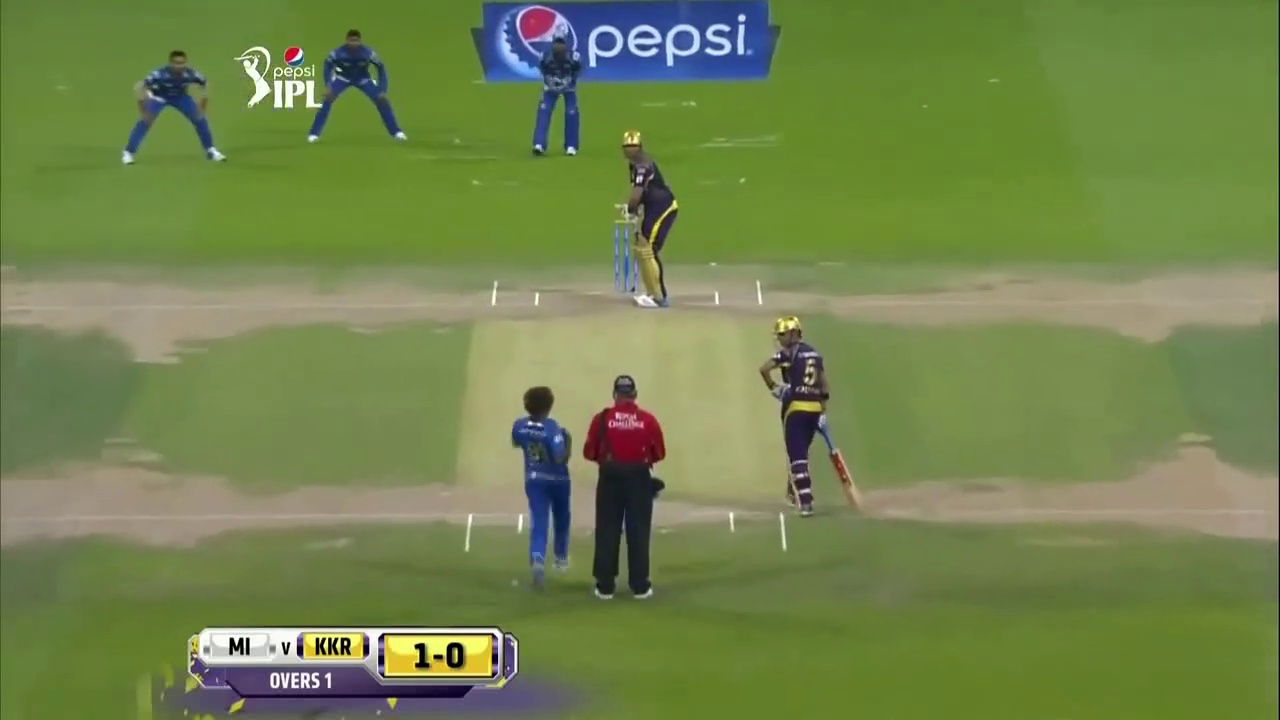bat: (822, 431, 867, 516)
stumps: (612, 220, 628, 293)
